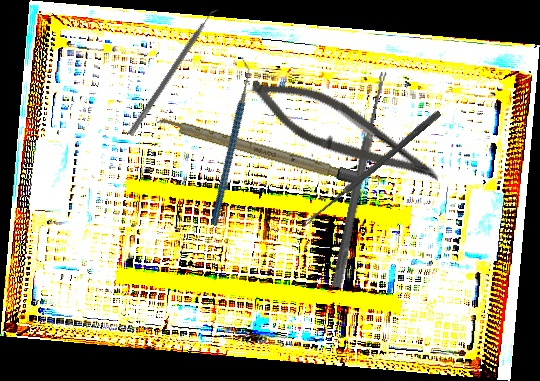Chopper: (157, 56, 301, 227)
Micro Scissor: (240, 66, 452, 195)
Scalpel Handle: (155, 114, 358, 185)
Spatula Surgical: (127, 4, 222, 141)
Surgical Spoon: (301, 109, 442, 229), (331, 70, 389, 289)
